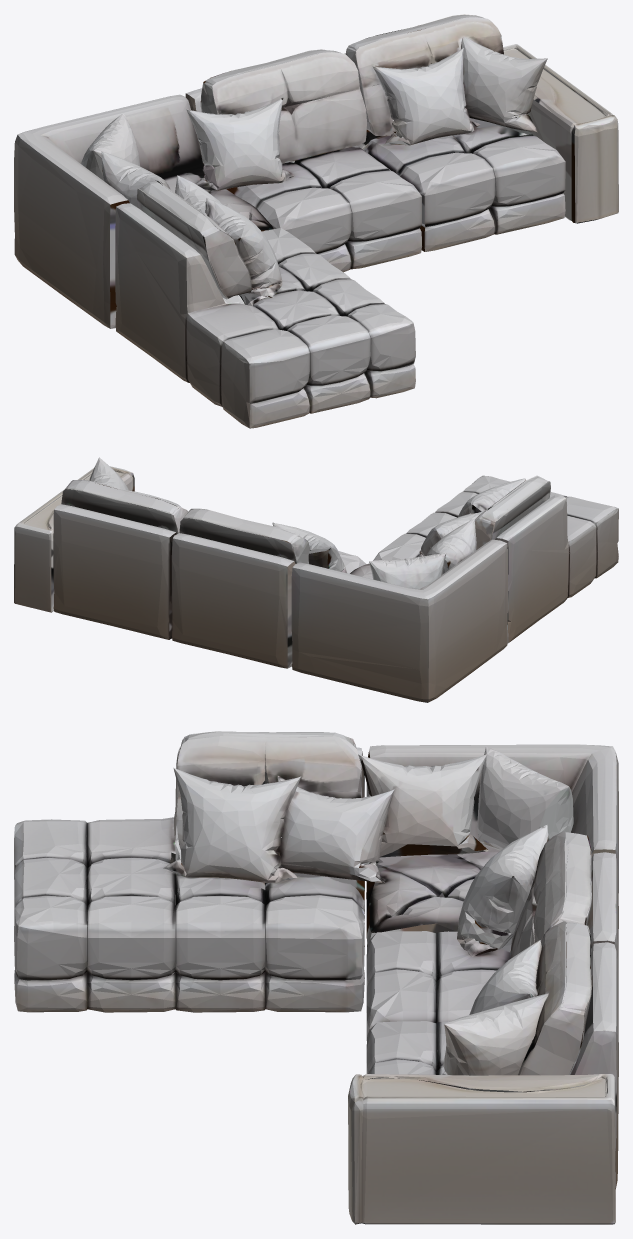
Rendered from edited_mesh.glb.
3 renders of one model, top to bottom at view 1: azimuth 30°, elevation 25°; view 2: azimuth 150°, elevation 25°; view 3: azimuth 270°, elevation 25°, orthographic. The views are drawn at different scales.
Parts seen in each view (by area): view 1: solid_001_wire; view 2: solid_001_wire; view 3: solid_001_wire.
Part boxes in pixels (x1,y1,x2,y2): solid_001_wire: (14, 14, 618, 428); solid_001_wire: (14, 457, 618, 702); solid_001_wire: (14, 731, 618, 1224).
Bounding box in the file's own units: 2 × 0.5776 × 1.61.
1 material, 1 textured.
